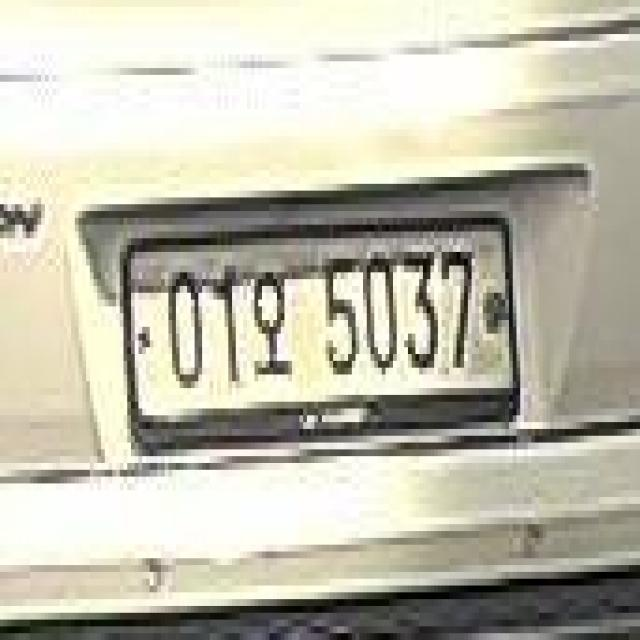illegal_plate: (120, 206, 524, 454)
